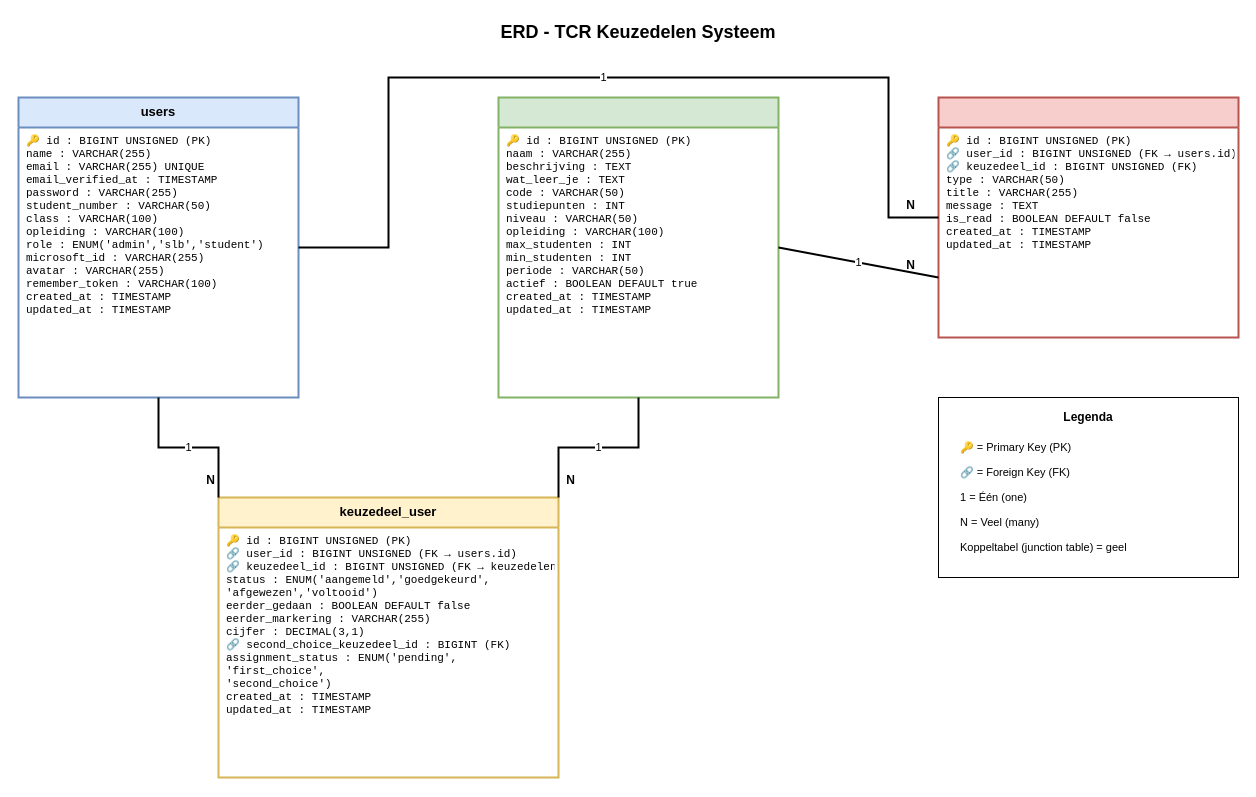
This 1256x797 diagram has some shape labels left out. Here are the shapes that lost their labels. From the top down, the box of each, then its label:
(937, 96, 1239, 338): notifications
(497, 96, 779, 398): keuzedelen
